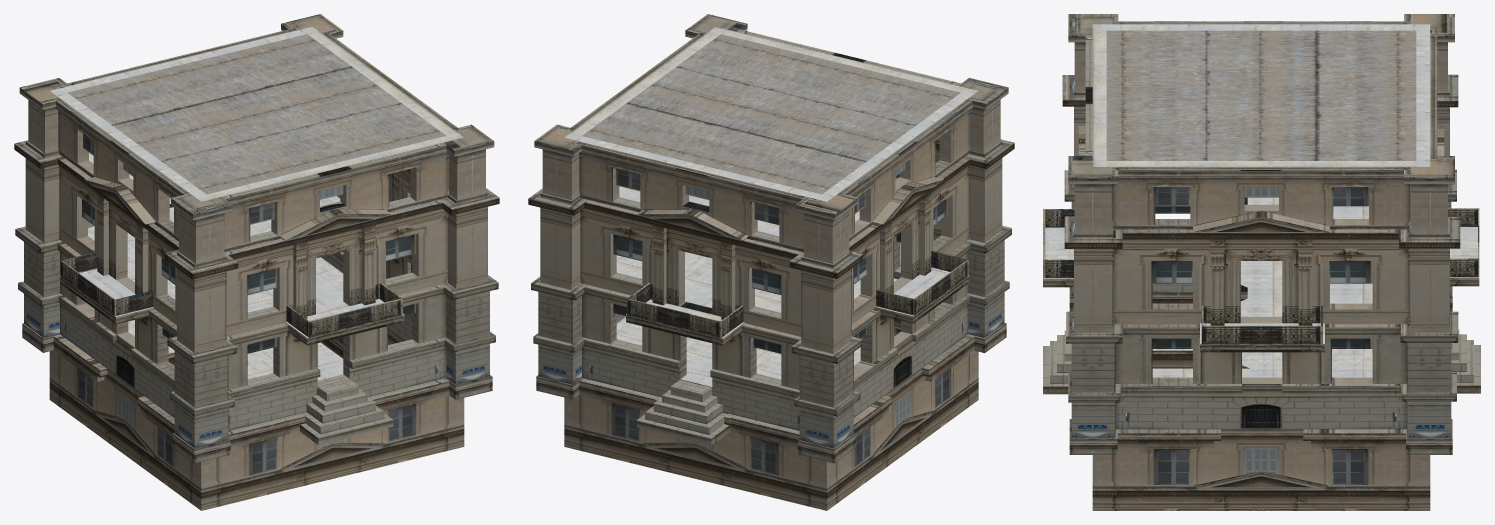
File: BagBuilding6_140.fbx
3 renders of one model, left to right at view 1: azimuth 30°, elevation 25°; view 2: azimuth 150°, elevation 25°; view 3: azimuth 270°, elevation 25°, orthographic. The views are drawn at different scales.
Parts seen in each view (by area): view 1: main140, roofA140, roofAb140, floorz140, frontsteps140; view 2: main140, roofA140, roofAb140, floorz140, backsteps140; view 3: main140, roofA140, roofAb140, floorz140, frontsteps140, backsteps140.
Boxes of the visible parts, x1,y1,x2,y2 form: main140: (14, 14, 499, 510); roofA140: (68, 34, 445, 194); roofAb140: (50, 26, 463, 337); floorz140: (88, 152, 349, 380); frontsteps140: (296, 379, 393, 444); main140: (528, 14, 1014, 510); roofA140: (582, 34, 960, 194); roofAb140: (564, 26, 978, 338); floorz140: (616, 186, 897, 386); backsteps140: (636, 379, 733, 445); main140: (1043, 14, 1479, 510); roofA140: (1106, 30, 1416, 160); roofAb140: (1043, 24, 1479, 343); floorz140: (1152, 197, 1372, 377); frontsteps140: (1043, 330, 1071, 394); backsteps140: (1451, 329, 1480, 393).
Size of the model in its own units: 21.24 by 18.51 by 21.35.
